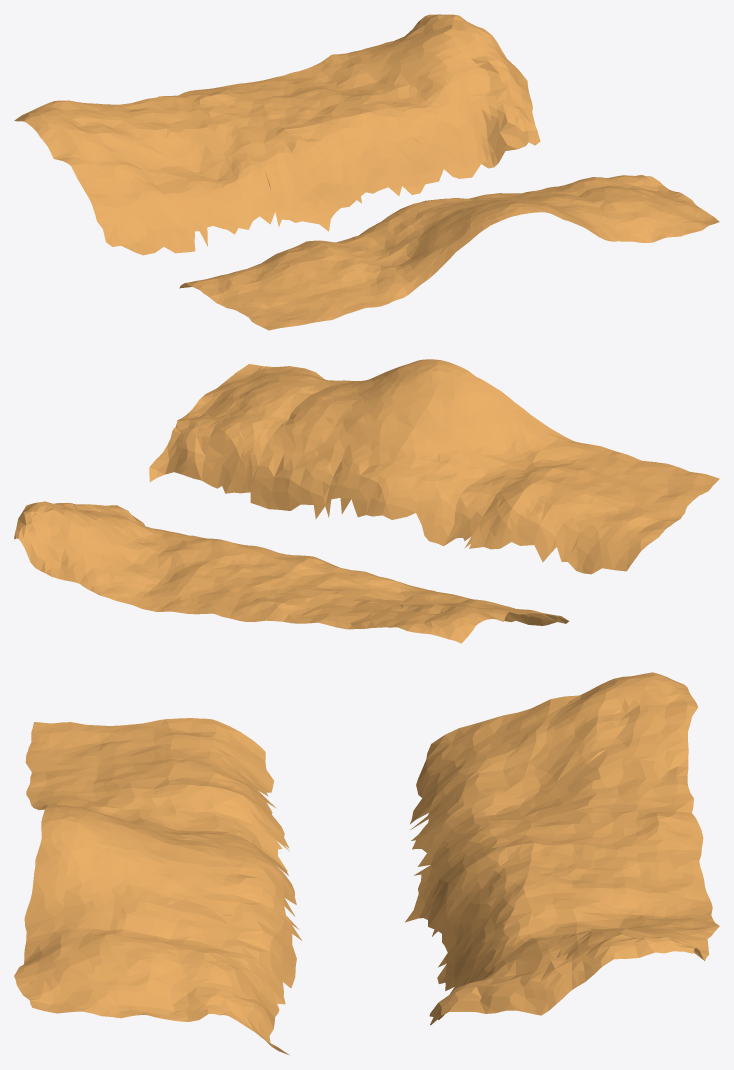
The model's file is beach.fbx.
3 renders of one model, top to bottom at view 1: azimuth 30°, elevation 25°; view 2: azimuth 150°, elevation 25°; view 3: azimuth 270°, elevation 25°, orthographic. The views are drawn at different scales.
Visible parts, largest first — view 1: Environment_1; view 2: Environment_1; view 3: Environment_1.
Boxes of the visible parts, <box> form: Environment_1: <box>14,14,719,330</box>; Environment_1: <box>14,359,719,643</box>; Environment_1: <box>14,672,719,1055</box>.
Size of the model in its own units: 2144 by 472 by 2165.
